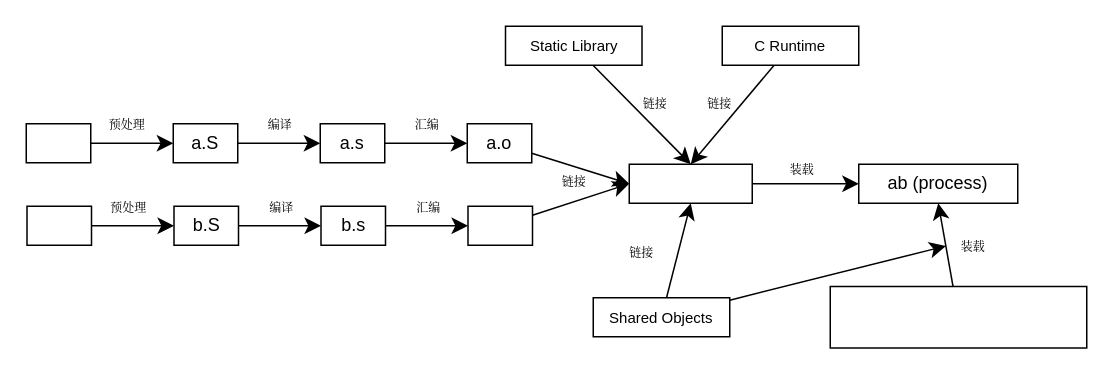
Image size: 1113x375. Some labels were removed from this diagram. Each missing label, with the centre of its shape:
"a.c" belongs at (x=58, y=142).
"ab (file)" belongs at (x=690, y=183).
"b.c" belongs at (x=59, y=225).
"b.o" belongs at (x=499, y=225).
"program interpreter /lib64/ld-linux-x86-64.so.2" belongs at (x=958, y=316).
